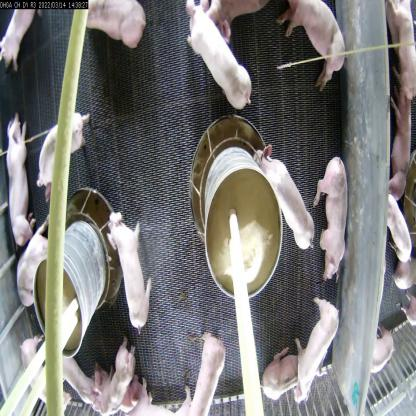Pig: (99, 198, 157, 342), (184, 0, 251, 112), (271, 0, 346, 91), (257, 137, 317, 250), (283, 294, 341, 410), (309, 148, 352, 288), (33, 112, 101, 190), (79, 0, 152, 64), (1, 112, 36, 242), (258, 323, 311, 400), (180, 330, 226, 416), (9, 232, 60, 301), (380, 171, 416, 260), (94, 347, 141, 415), (0, 1, 41, 66)
